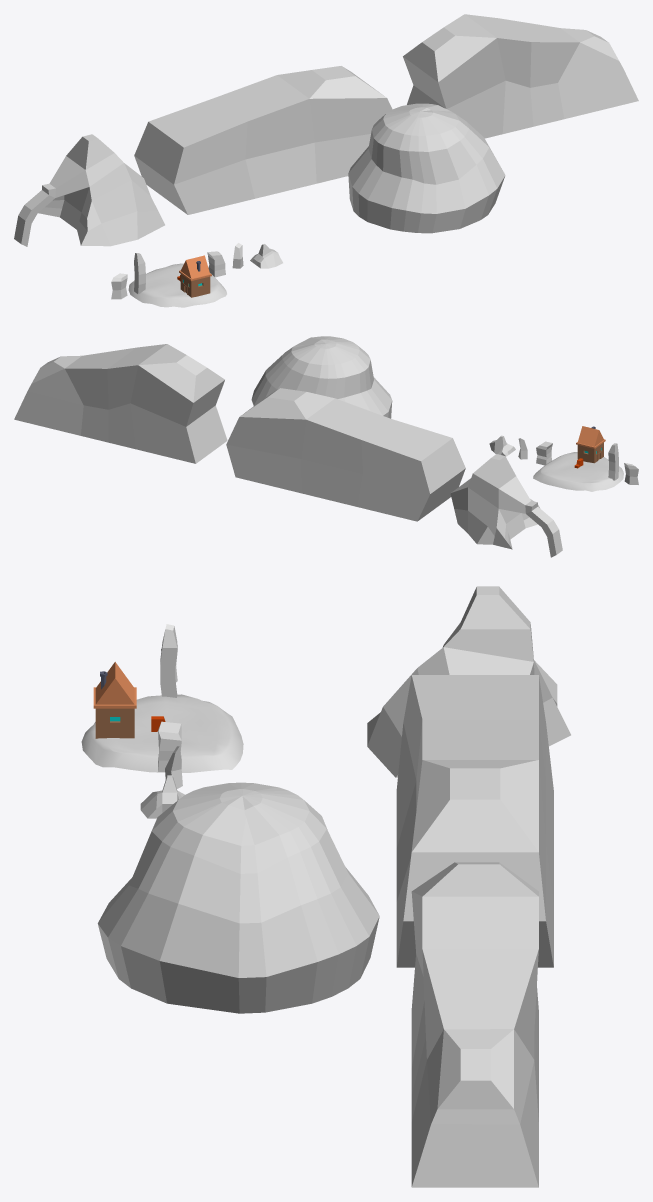
File: level_assets_gwj76.glb
3 views of the same model, one above another, from view 1: azimuth 30°, elevation 25°; view 2: azimuth 150°, elevation 25°; view 3: azimuth 270°, elevation 25° (orthographic). The views are drawn at different scales.
Visible parts, largest first — view 1: Cube, Cube.001, Cylinder, Rock.005, SnowFloor, House, Rock.004, Rock; view 2: Cube, Cube.001, Cylinder, Rock.005, SnowFloor, House, Rock, Rock.002, Rock.004; view 3: Cylinder, Cube.001, Cube, Rock.005, SnowFloor, House, Rock, Rock.004, Rock.002.
Part boxes in pixels (<box>): Cube: <box>134,66,392,214</box>; Cube.001: <box>403,14,638,138</box>; Cylinder: <box>348,103,505,233</box>; Rock.005: <box>14,134,164,246</box>; SnowFloor: <box>128,263,226,307</box>; House: <box>179,255,211,297</box>; Rock.004: <box>250,244,282,268</box>; Rock: <box>134,253,145,294</box>; Cube: <box>226,388,465,521</box>; Cube.001: <box>14,344,227,463</box>; Cylinder: <box>251,336,392,418</box>; Rock.005: <box>450,454,562,557</box>; SnowFloor: <box>533,452,623,491</box>; House: <box>576,426,605,463</box>; Rock: <box>608,443,618,480</box>; Rock.002: <box>536,441,552,465</box>; Rock.004: <box>489,435,515,456</box>; Cylinder: <box>97,782,379,1013</box>; Cube.001: <box>411,862,538,1187</box>; Cube: <box>396,675,553,967</box>; Rock.005: <box>367,586,570,777</box>; SnowFloor: <box>81,694,243,772</box>; House: <box>93,662,136,738</box>; Rock: <box>160,624,177,697</box>; Rock.004: <box>140,775,184,818</box>; Rock.002: <box>158,721,181,771</box>.
Bounding box in the file's own units: 166 × 30.17 × 65.83.
